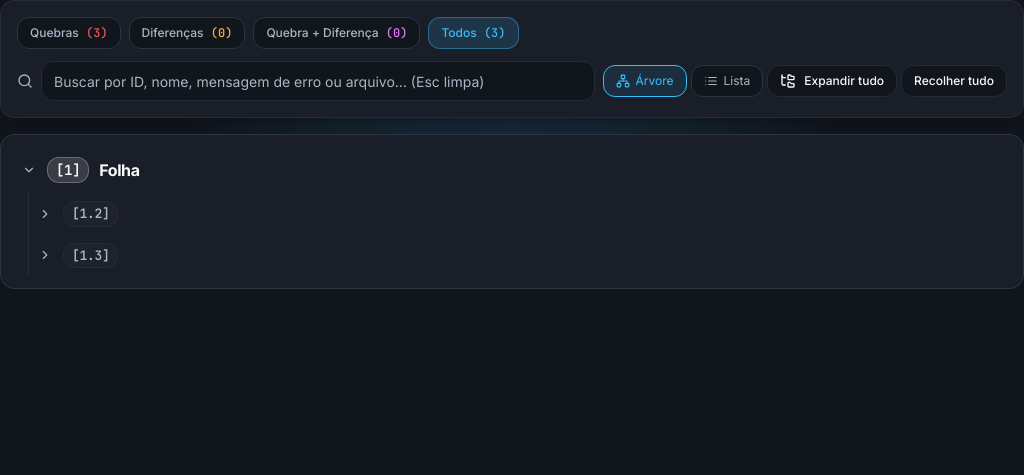
Test: aba Falhas › arvore: grupos sao botoes com aria-expanded e o primeiro nivel ja vem aberto
The width and height of the screenshot is (1024, 475).
Click the button "[1.2]".
click(91, 214)  # box [13,193,1011,234]
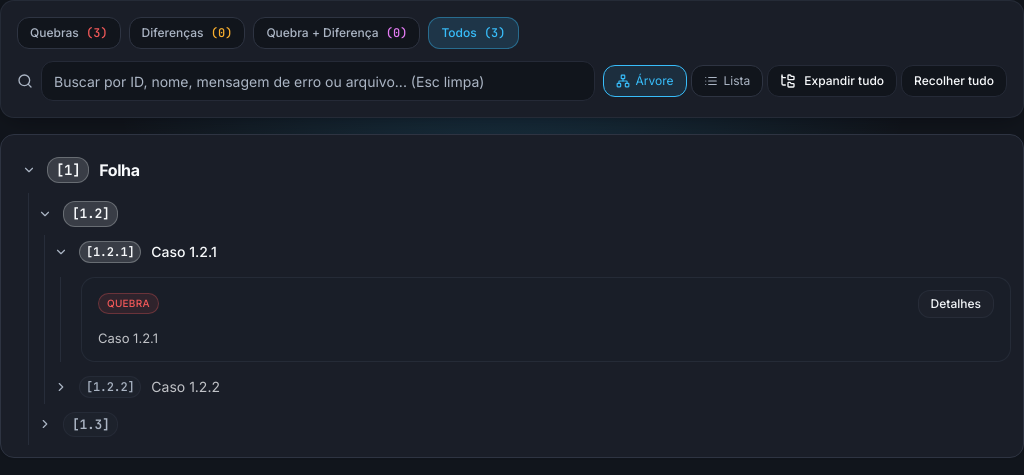
Now the button "[1.2]" is expanded, box [13,193,1011,234]
Now the button "Detalhes" is shown, box [918,290,994,318]
